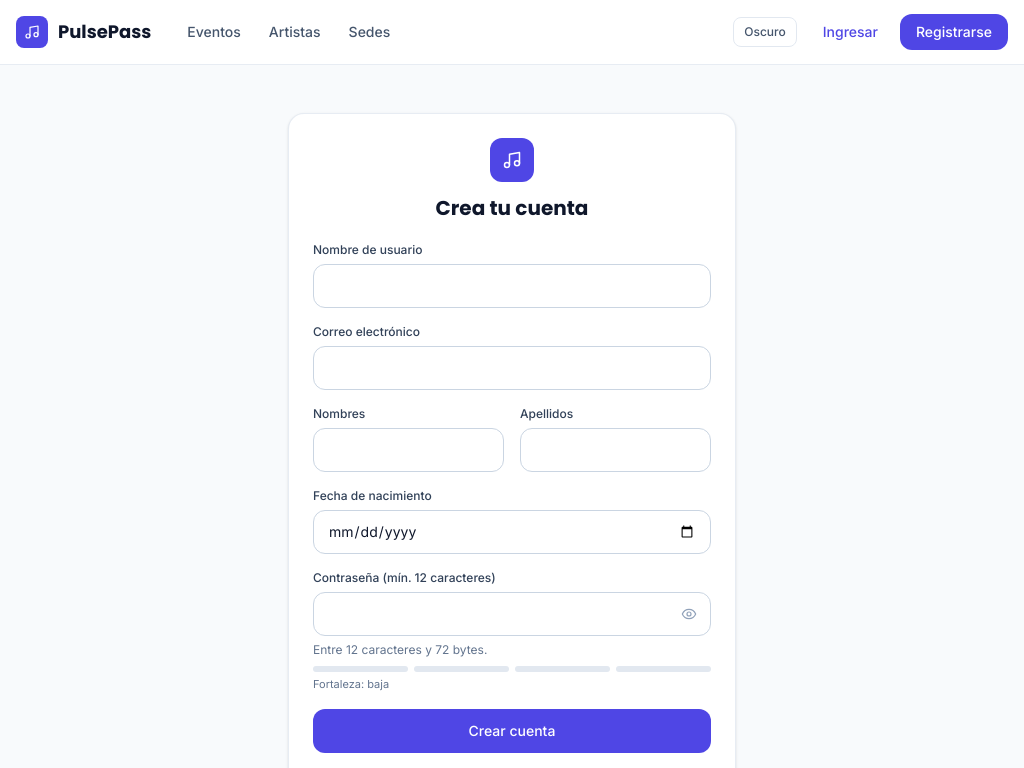
Test: 21.2 Autenticación y guardas (TEST-FE-AUTH-*) › TEST-FE-AUTH-006: registro 409 muestra mensaje genérico de duplicado
Type "andrea" into the field labelled "Nombre de usuario" at (512, 286), box [313,264,711,308]
Type "andrea@pulsepass.test" into the field labelled "Correo electrónico" at (512, 368), box [313,346,711,390]
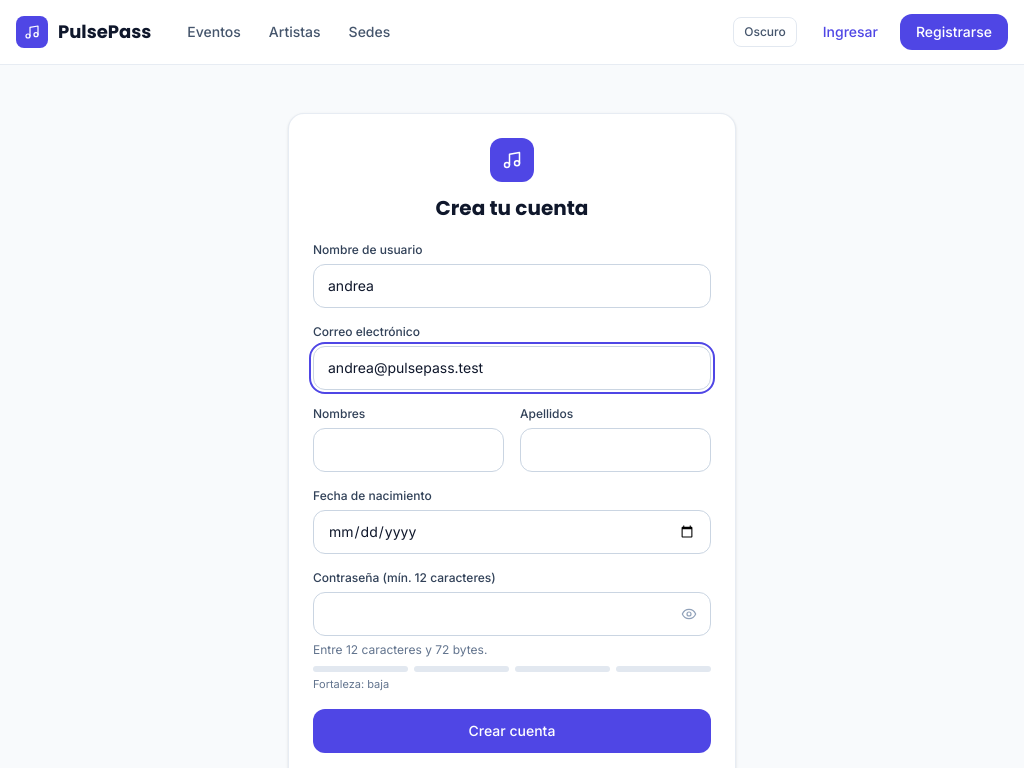
Type "Andrea" into the field labelled "Nombres" at (408, 450), box [313,428,504,472]
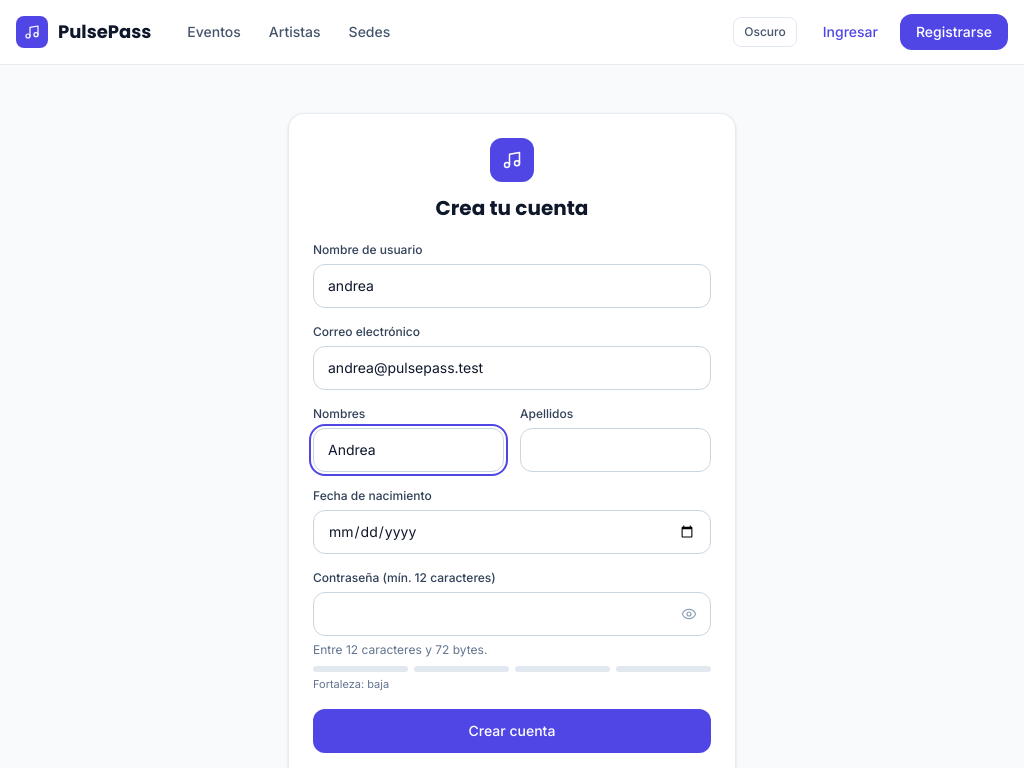
Type "Ruiz" into the field labelled "Apellidos" at (616, 450), box [520,428,711,472]
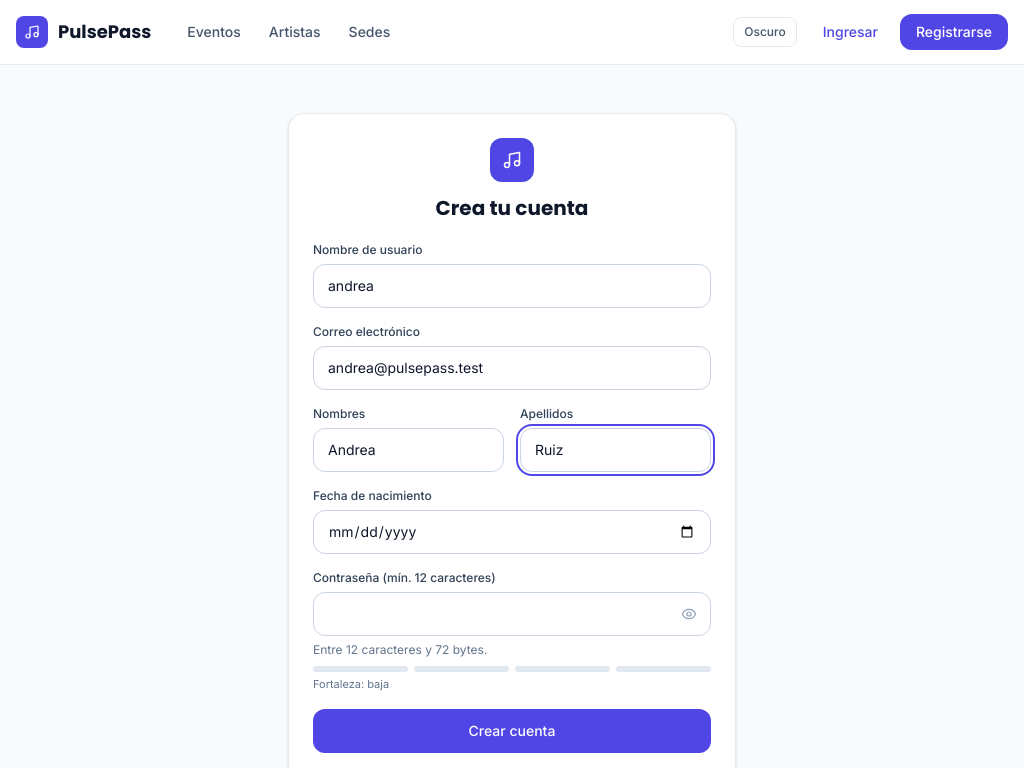
Type "1998-04-12" into the date field labelled "Fecha de nacimiento" at (512, 532), box [313,510,711,554]
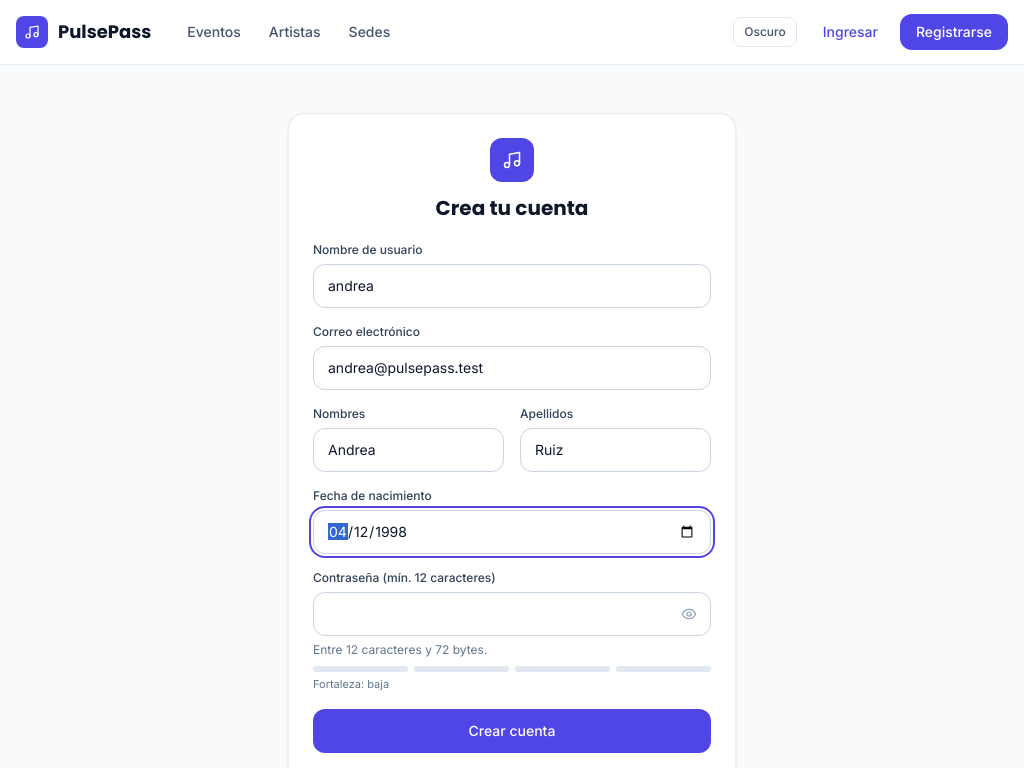
Type "UnaFraseSeguraLarga2026!" into the password field labelled "Contraseña (mín. 12 caracteres)" at (512, 614), box [313,592,711,636]
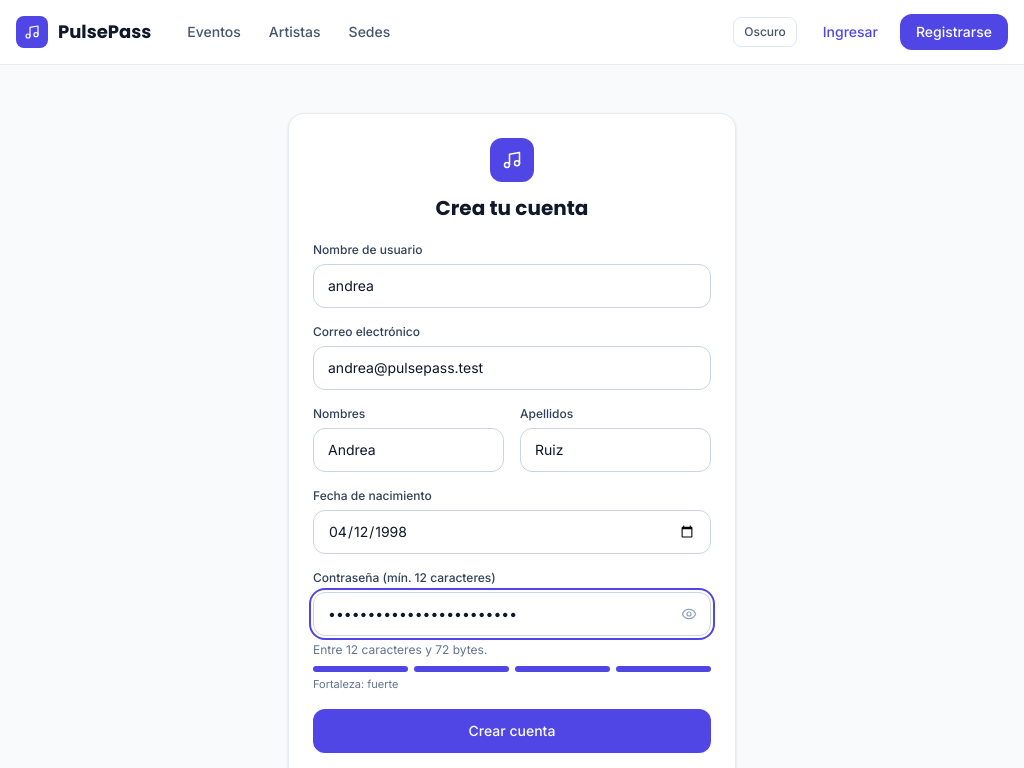
Click the button "Crear cuenta" at (512, 730), box [313,708,711,752]
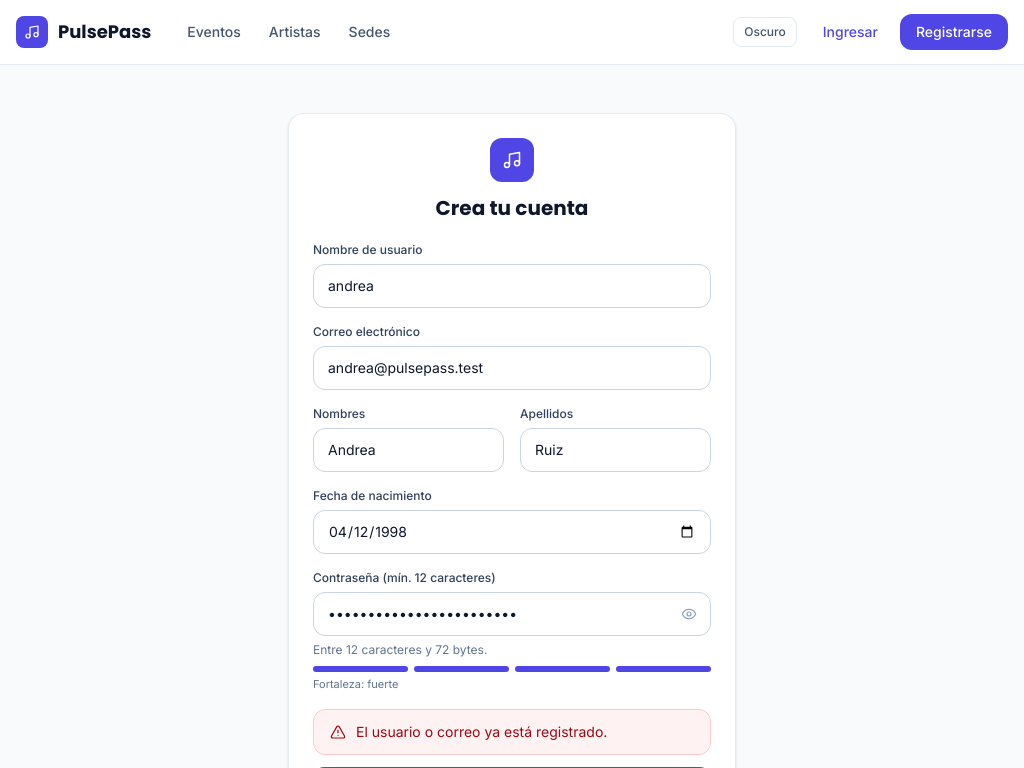
Now the text "El usuario o correo ya está registrado." is shown, box [356,722,607,742]
